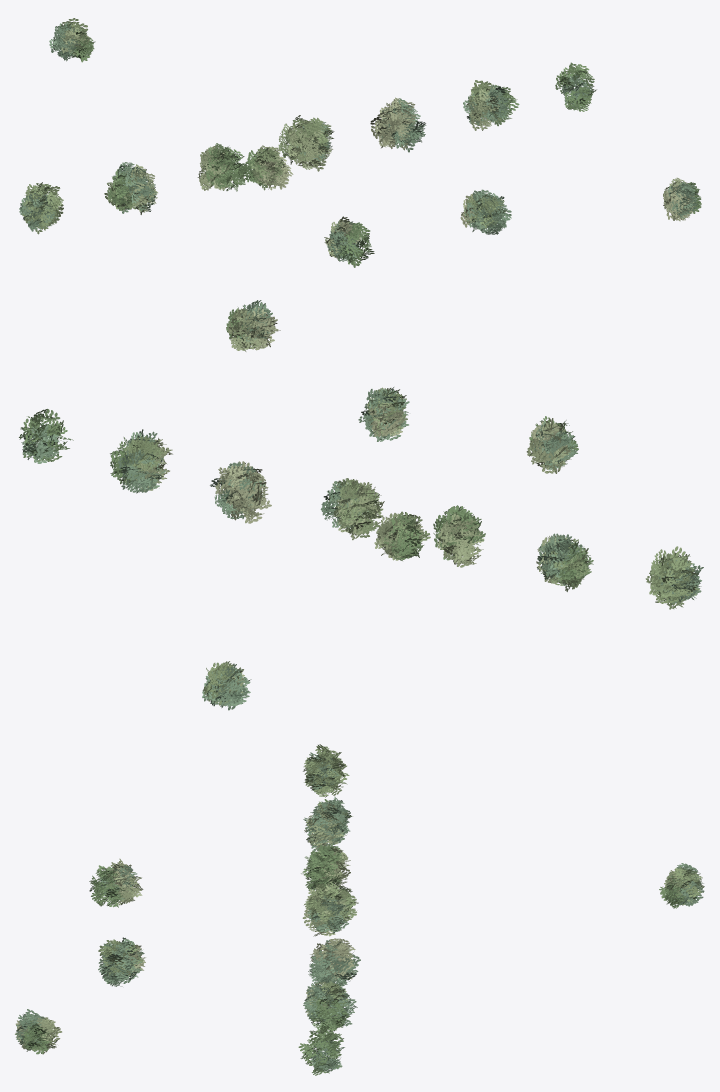
File: campus-tree--5_-3-middle.glb
The picture shows the model from 3 angles, top to bottom: view 1: azimuth 30°, elevation 25°; view 2: azimuth 150°, elevation 25°; view 3: azimuth 270°, elevation 25°; orthographic projection. The views are drawn at different scales.
Parts seen in each view (by area): view 1: Campus leaf canopy; view 2: Campus leaf canopy; view 3: Campus leaf canopy.
Part boxes in pixels (x1,y1,x2,y2): Campus leaf canopy: [19, 18, 701, 267]; Campus leaf canopy: [19, 300, 703, 710]; Campus leaf canopy: [15, 744, 704, 1075].
Size of the model in its own units: 71.85 by 8.31 by 72.8.
Materials: 1 (1 with a texture image).
